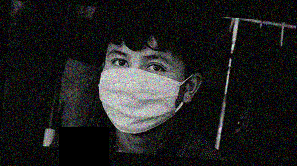with_mask: (98, 49, 184, 136)
